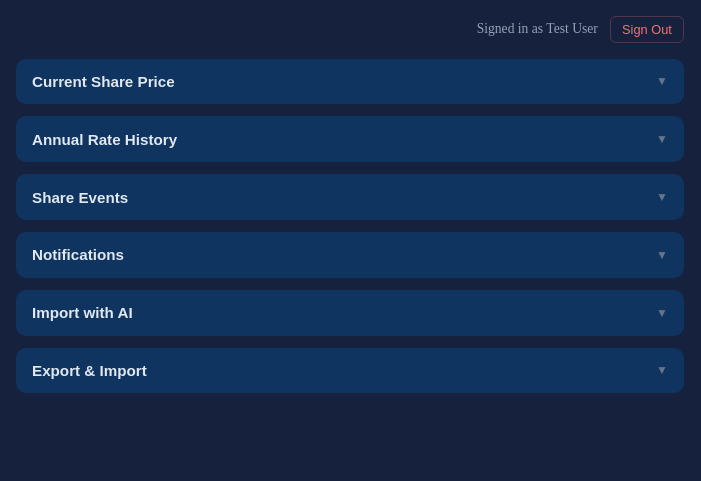
SettingsTab › shows export button
Click the text "Export & Import" at (89, 370), box [32, 362, 147, 379]
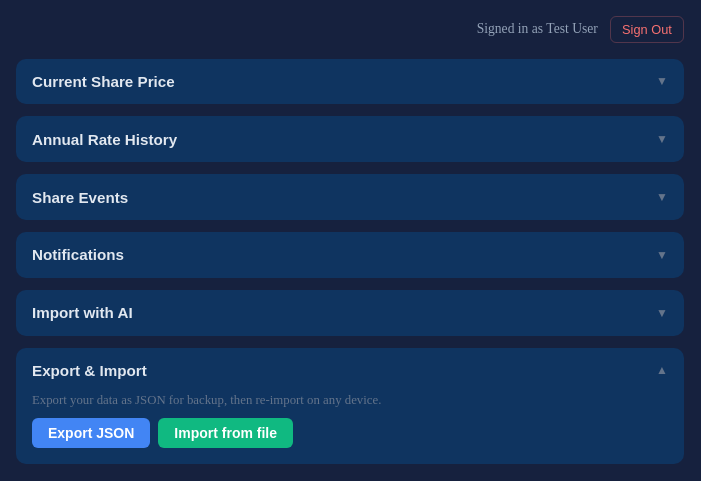
Result: the button with test id "export-btn" is shown at [32, 418, 150, 448]
